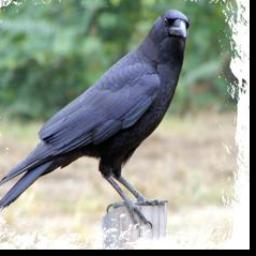Crow: (0, 7, 195, 232)
